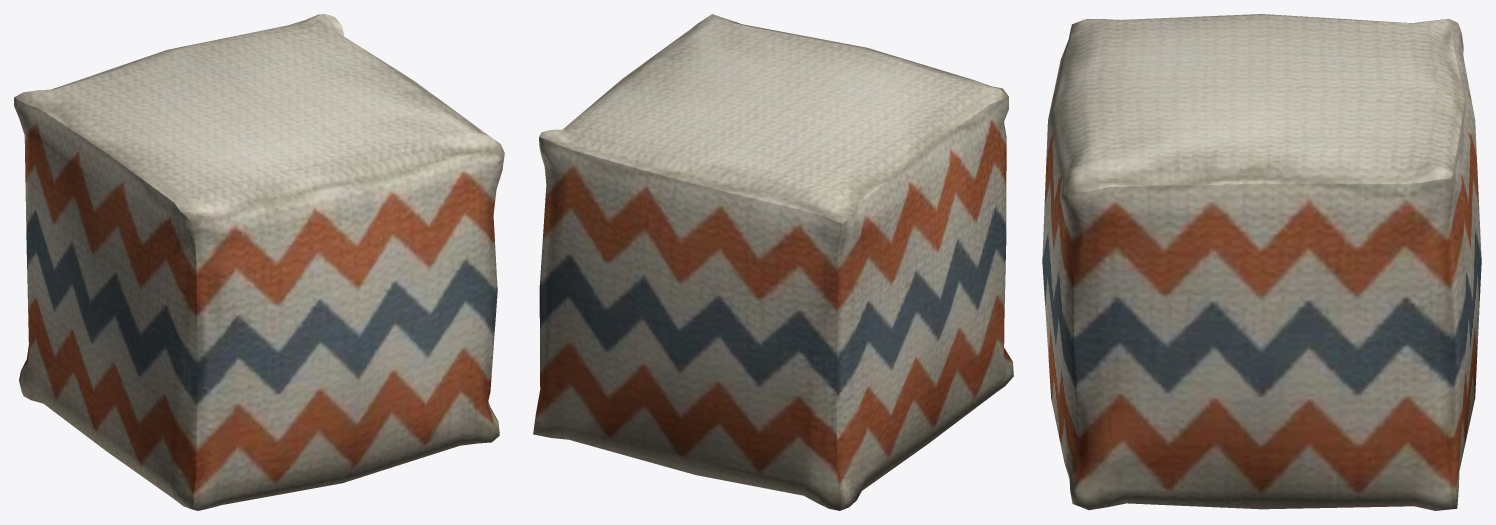
File: tiny_modern_pouffe.glb
3 renders of one model, left to right at view 1: azimuth 30°, elevation 25°; view 2: azimuth 150°, elevation 25°; view 3: azimuth 270°, elevation 25°, orthographic. The views are drawn at different scales.
Visible parts, largest first — view 1: Object_74; view 2: Object_74; view 3: Object_74.
Part boxes in pixels (<box>): Object_74: <box>14,14,504,510</box>; Object_74: <box>533,14,1013,510</box>; Object_74: <box>1042,14,1481,510</box>.
Size of the model in its own units: 0.8663 by 0.7717 by 0.8815.
1 material, 1 textured.
